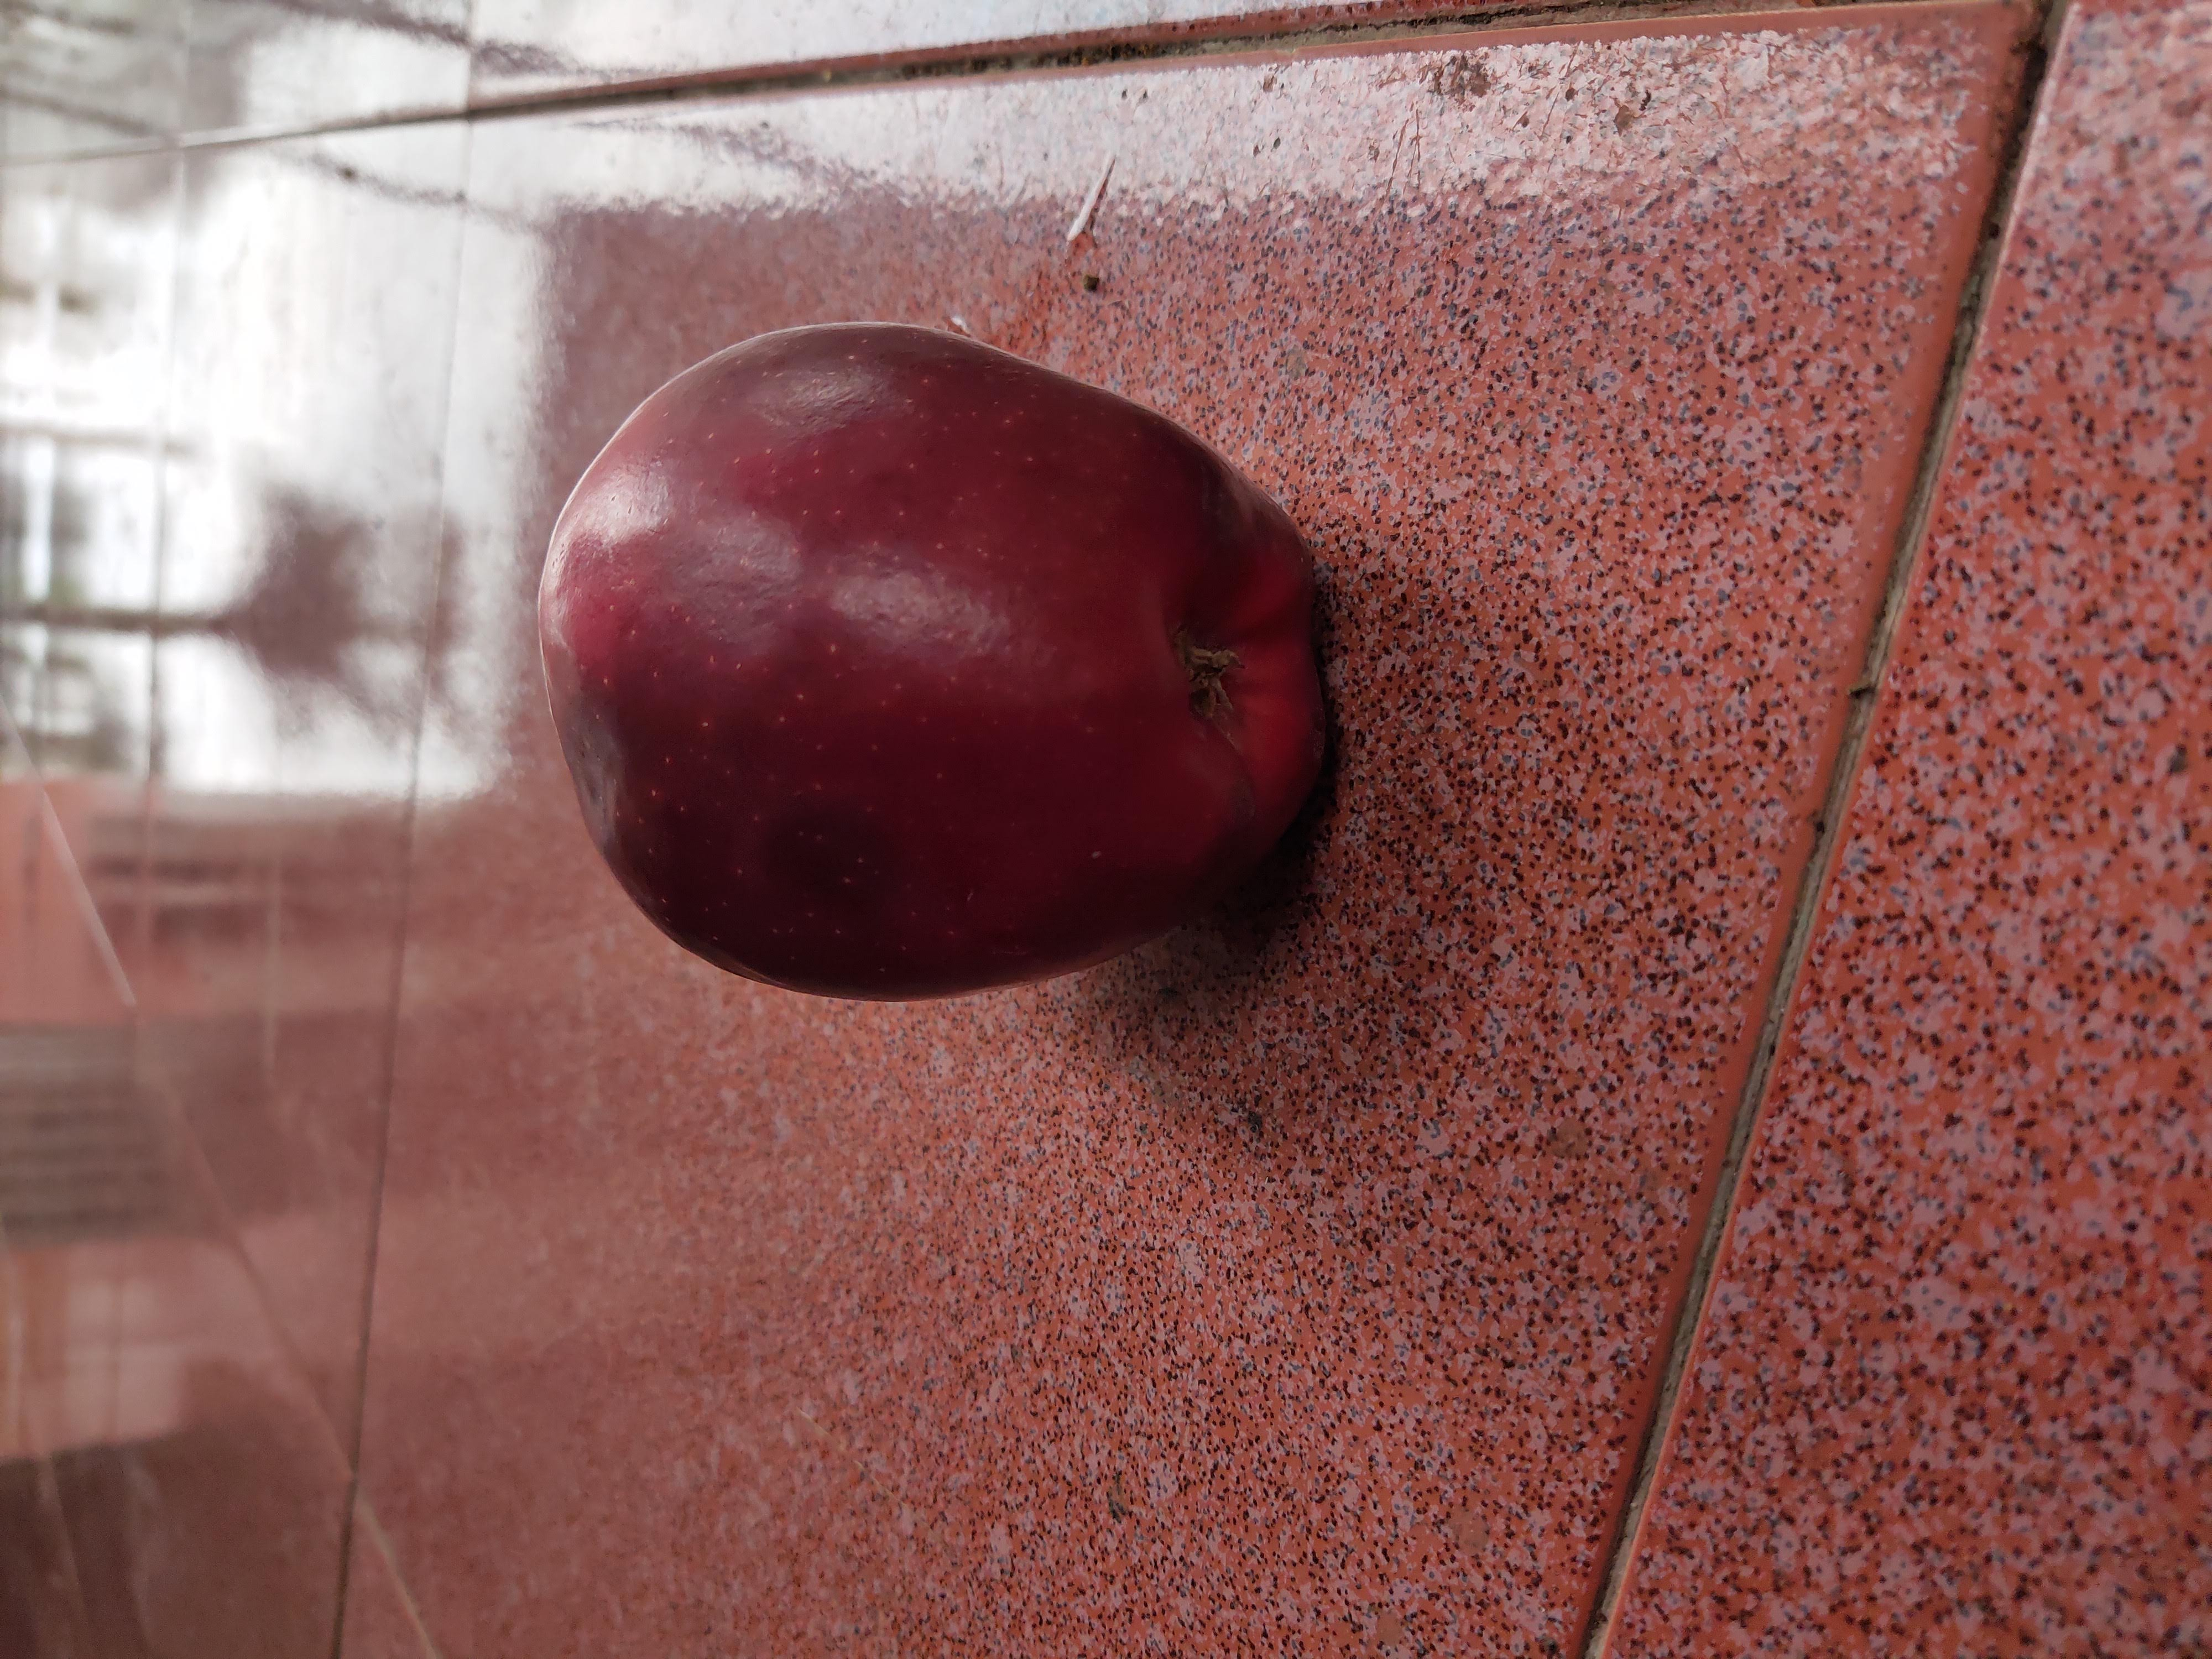apple: (528, 308, 1350, 1012)
